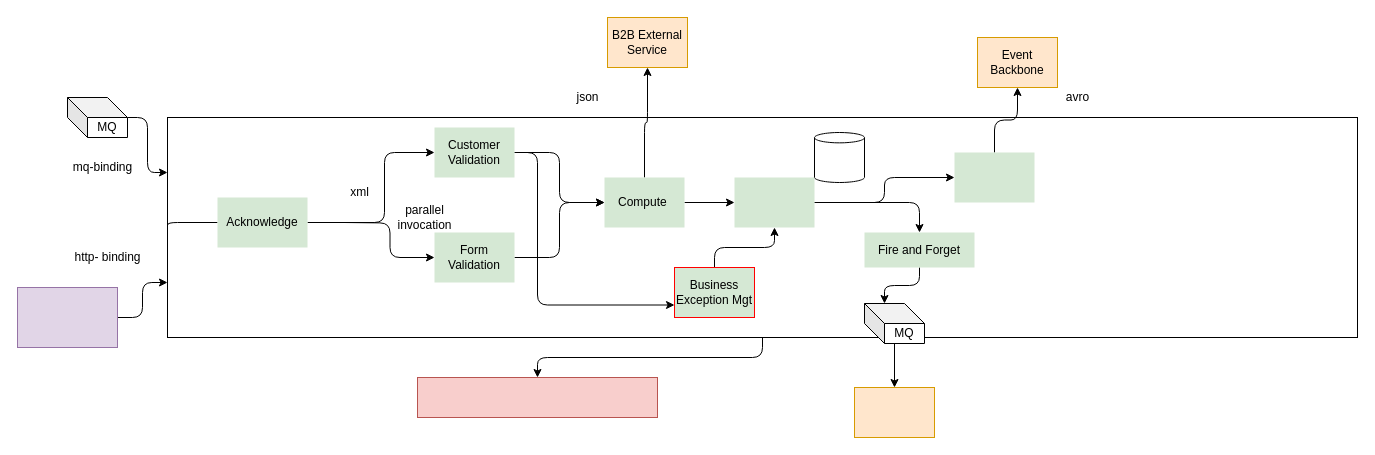
The diagram is 1375 pixels wide and 455 high, and some of its shapes have lost their labels. Each missing label, with the centre of its shape:
"Compensation subflow" goes at (537,397).
"Fraud Detection" goes at (894,412).
"HTTP Load Balancer" goes at (67,317).
"Persist" goes at (774,202).
"Publish Event" goes at (994,177).
